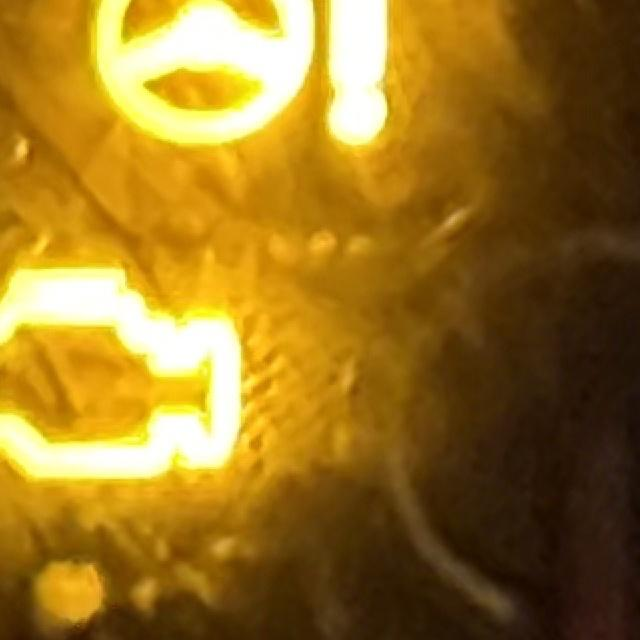Engine Issue: (1, 264, 245, 487)
Steering Wheel Locked: (89, 1, 392, 151)
